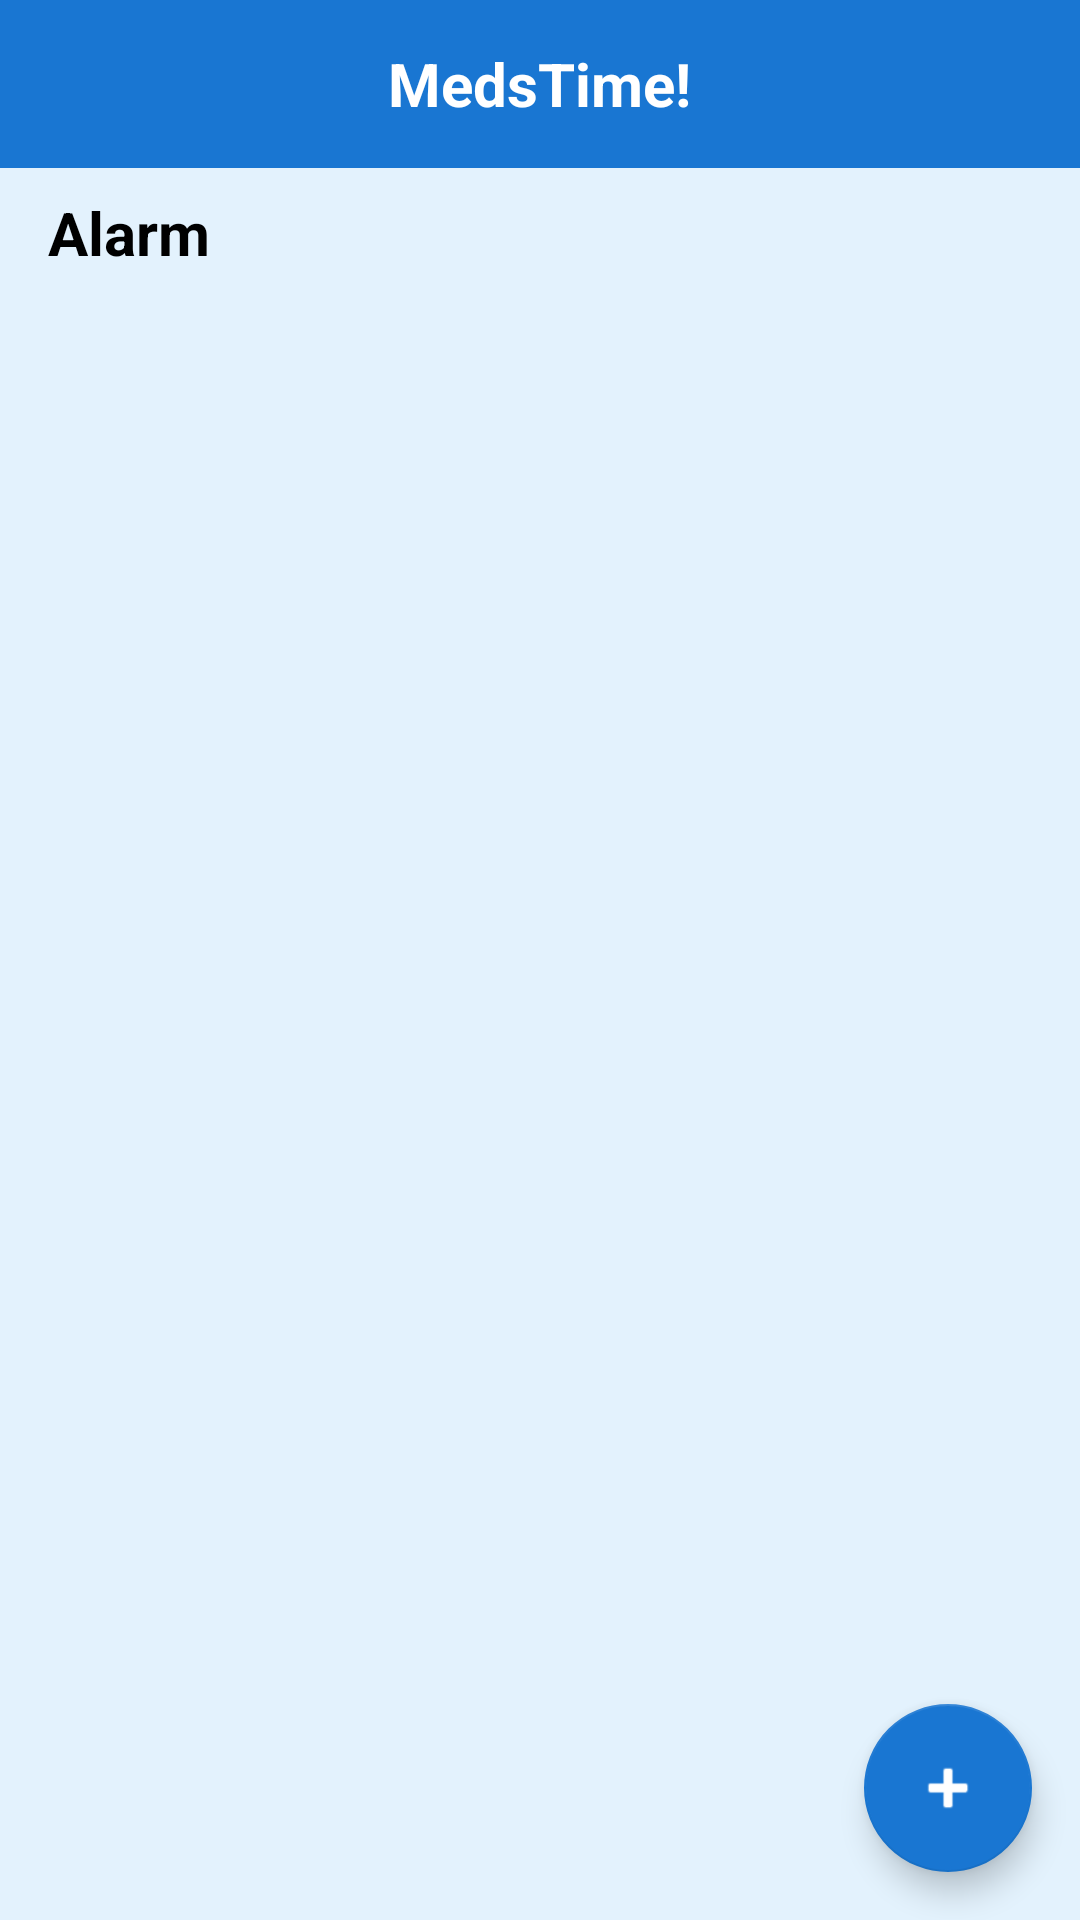

Where icons sit on this 1080px x 1920px app screen, as (x1, y1, x2, y2):
Add Reminder: (864, 1704, 1032, 1872)
